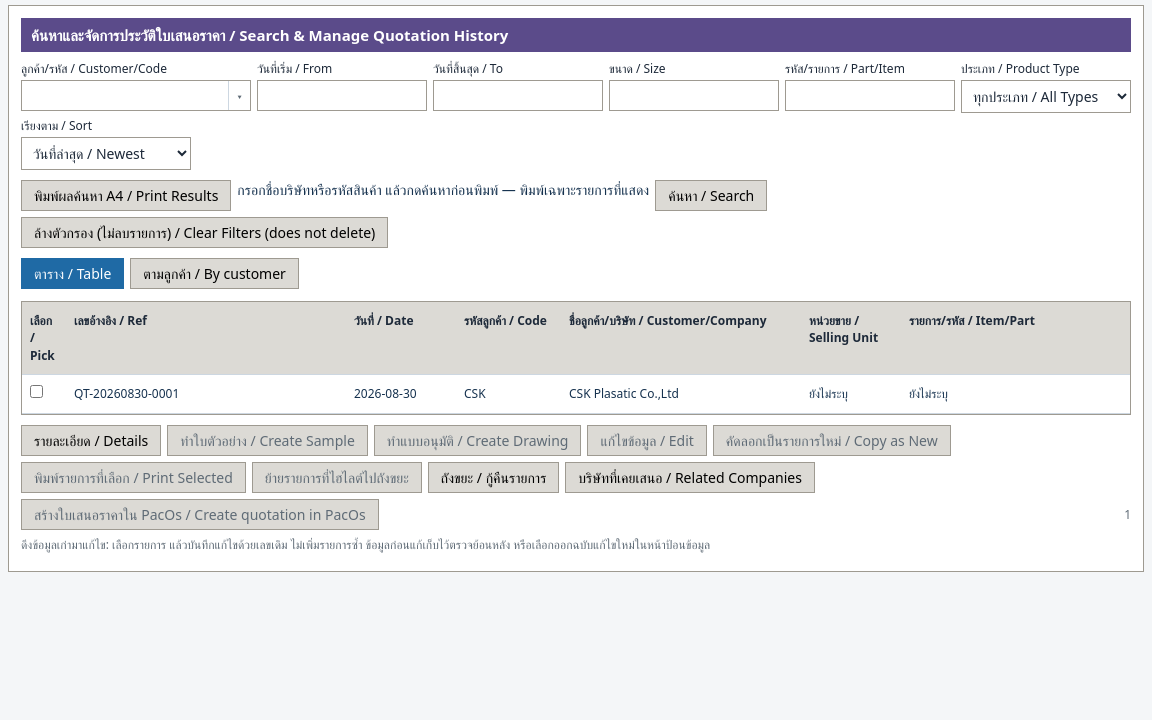
Scenario: deleting a quotation from history › nothing is sent until a reason and a name are typed
Click the text "CSK Plasatic Co.,Ltd": {"x": 681, "y": 394} [561,375,801,413]
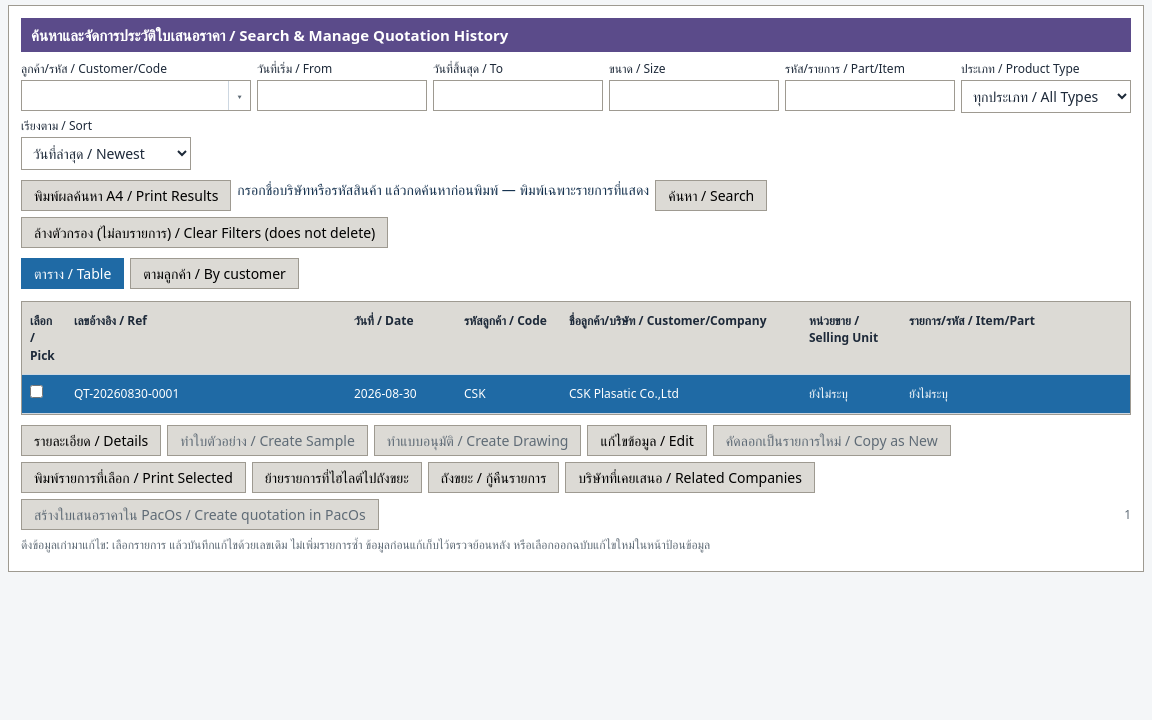
Click the button "ย้ายรายการที่ไฮไลต์ไปถังขยะ": {"x": 337, "y": 477} [252,462,422,493]
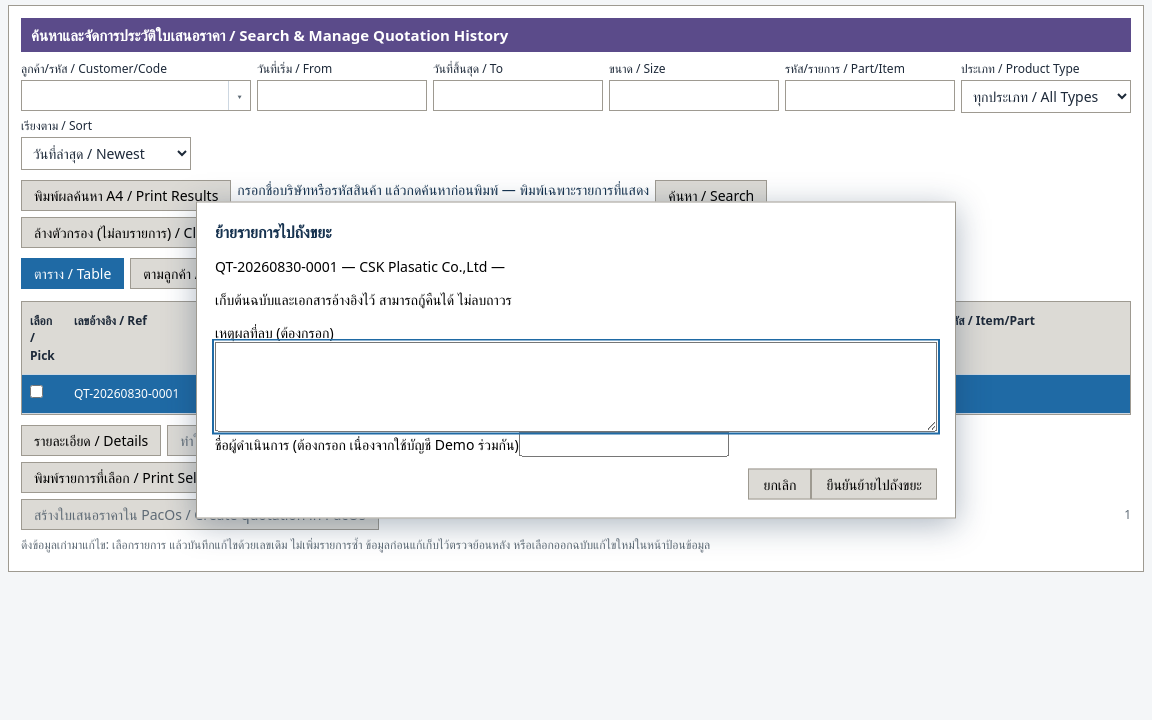
Check: the button "ยืนยันย้ายไปถังขยะ" is disabled, box [812,468,937,500]
